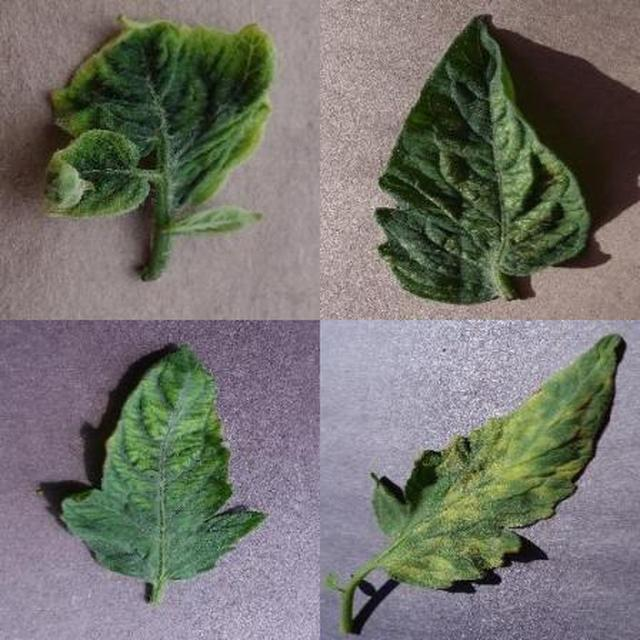Yellow Leaf Curl Virus: (229, 166, 640, 640)
